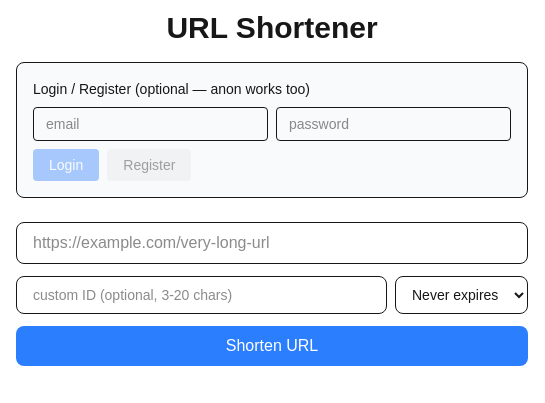
Test case: Auth form — flicker + usability fix › shows authError and it persists across re-renders
In the field with placeholder "email": point(150, 124) [33,107,268,141], type "a@b.com"
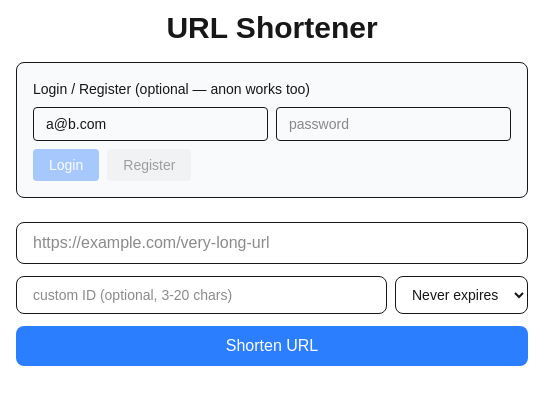
In the password field with placeholder "password": point(394, 124) [276,107,511,141], type "secret123"
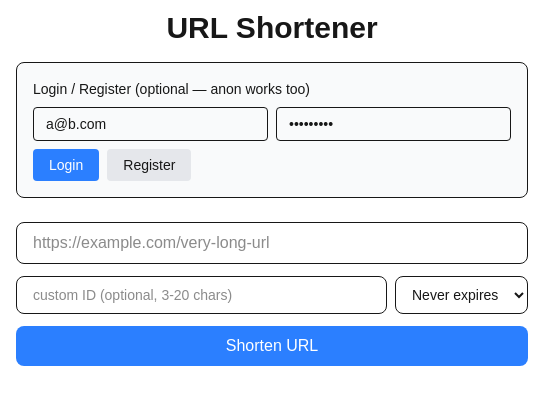
Click the button "Register": point(149, 165) [107,149,191,181]
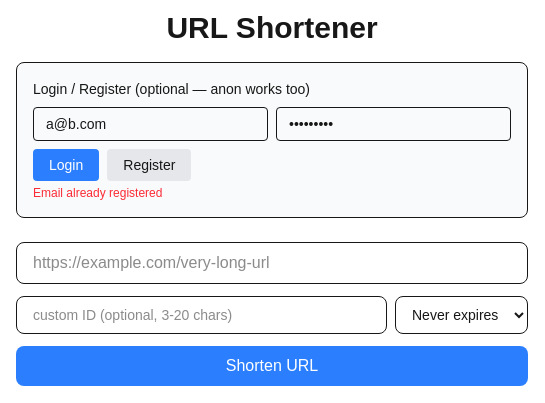
Expected: the text "Email already registered" is shown, [33,186,162,200]
